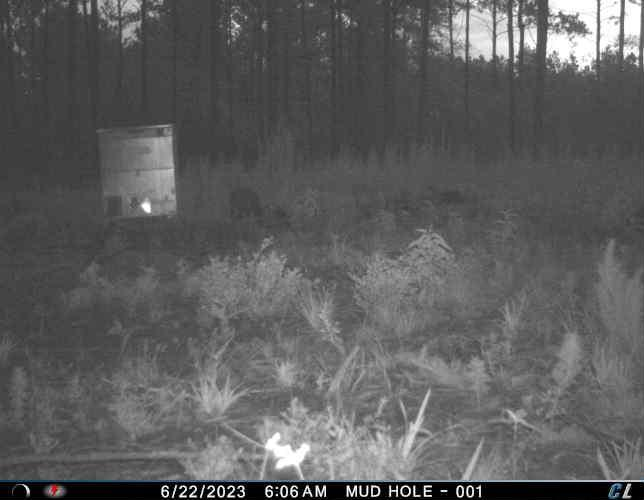Hog: (226, 184, 265, 219)
